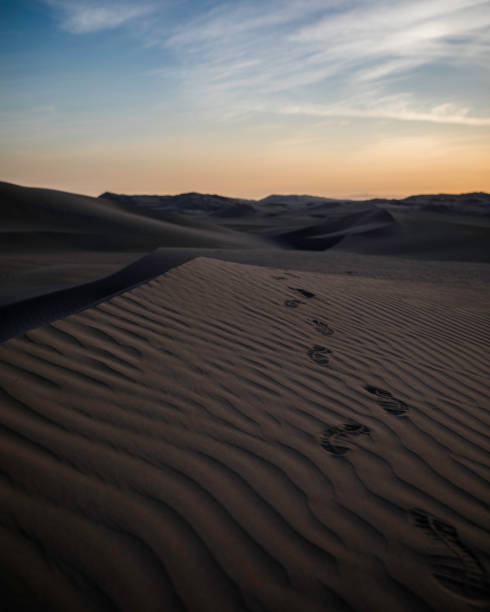human_foot_print: (410, 508, 489, 604), (321, 421, 369, 455), (365, 385, 408, 415), (307, 345, 331, 364), (309, 319, 333, 335), (288, 287, 314, 298), (284, 299, 303, 307)
